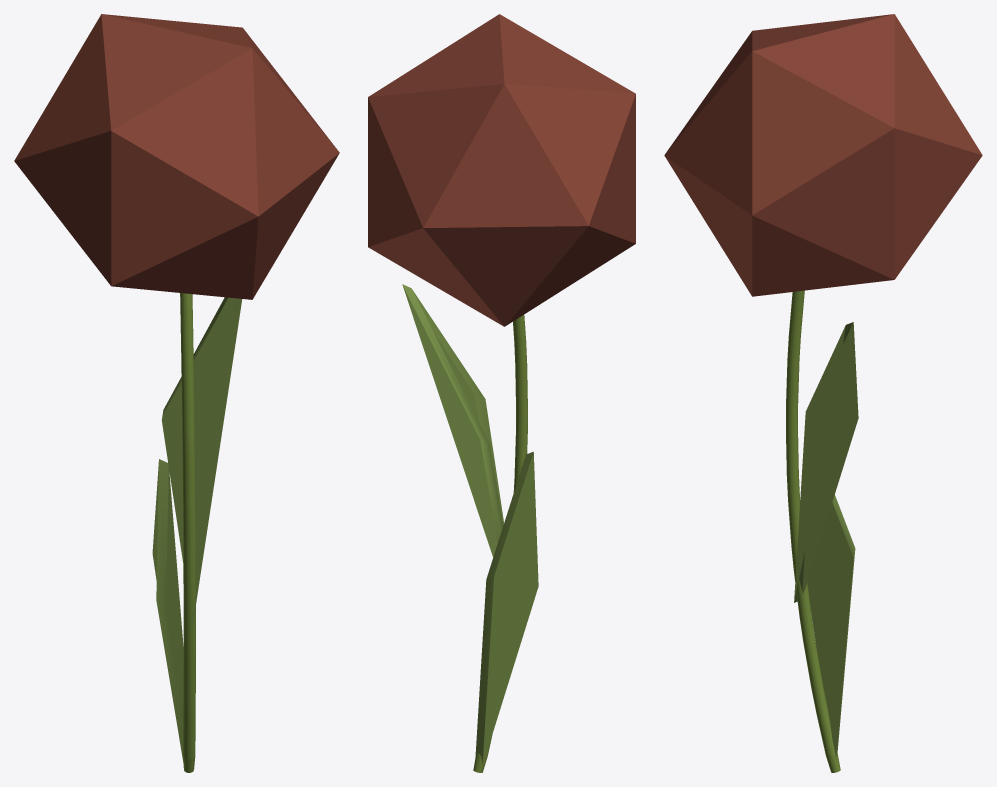
Rendered from Plant6.fbx.
3 renders of one model, left to right at view 1: azimuth 30°, elevation 25°; view 2: azimuth 150°, elevation 25°; view 3: azimuth 270°, elevation 25°, orthographic. The views are drawn at different scales.
Visible parts, largest first — view 1: polySurface3; view 2: polySurface3; view 3: polySurface3.
Boxes of the visible parts, <box> form: polySurface3: <box>14,14,339,772</box>; polySurface3: <box>368,14,635,772</box>; polySurface3: <box>664,14,982,772</box>.
Size of the model in its own units: 0.5236 by 1.48 by 0.5854.
